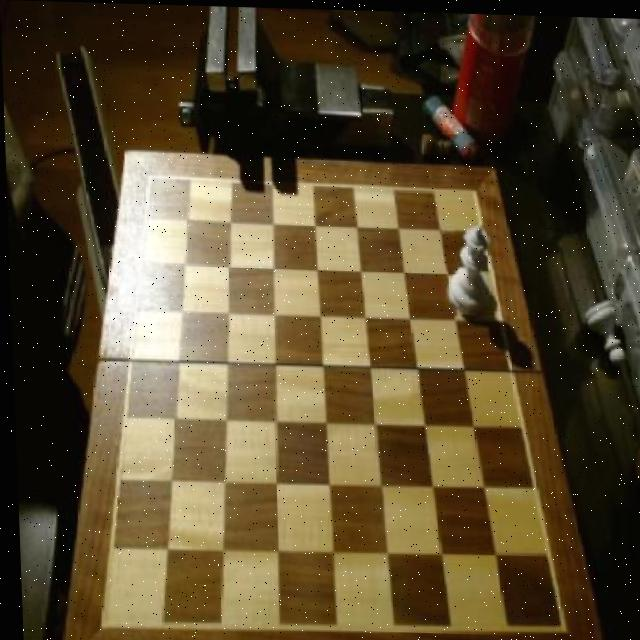white-pawn: (441, 223, 493, 314)
